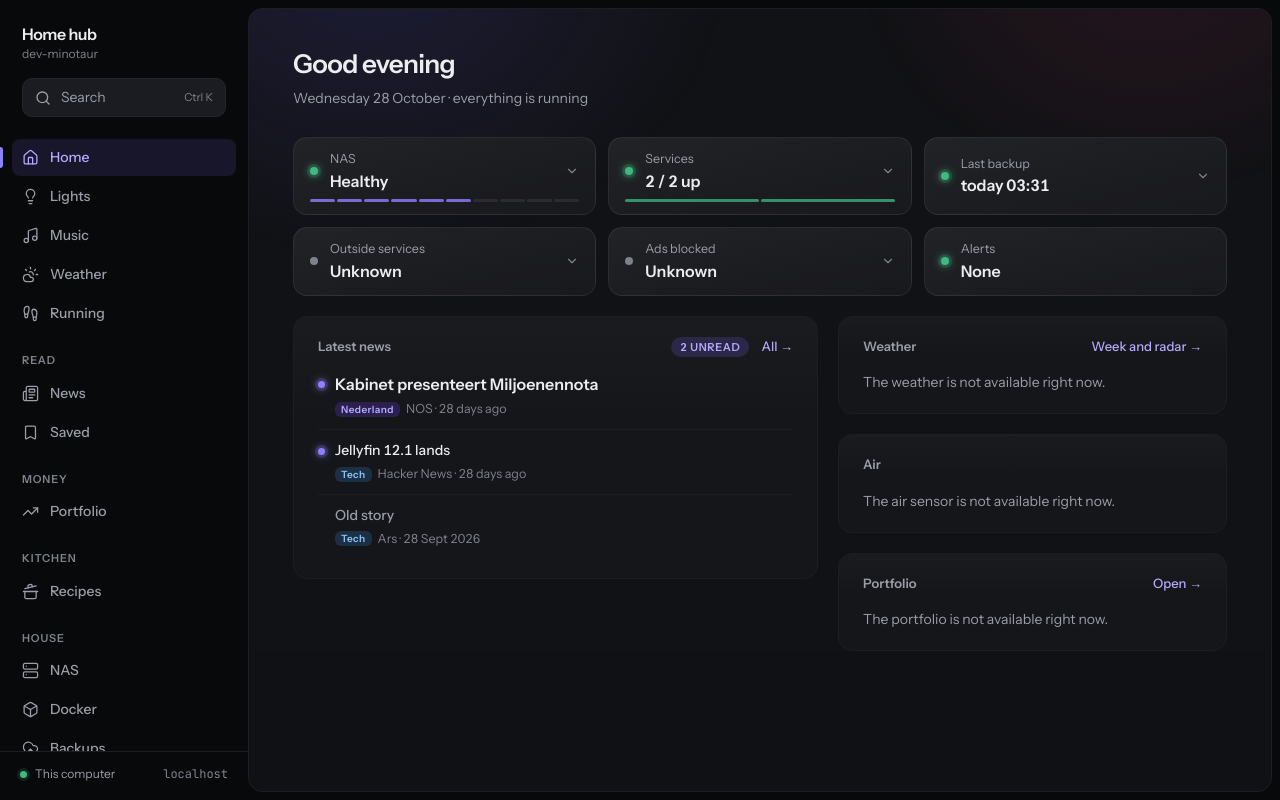
HomePage › keeps the other cards when one source is down
Check: the text "The portfolio is not available right now." is shown, box [863,610,1108,628]
Step 1. Click the button with aria-label "NAS:" → x=359, y=181, box [293,137,596,215]
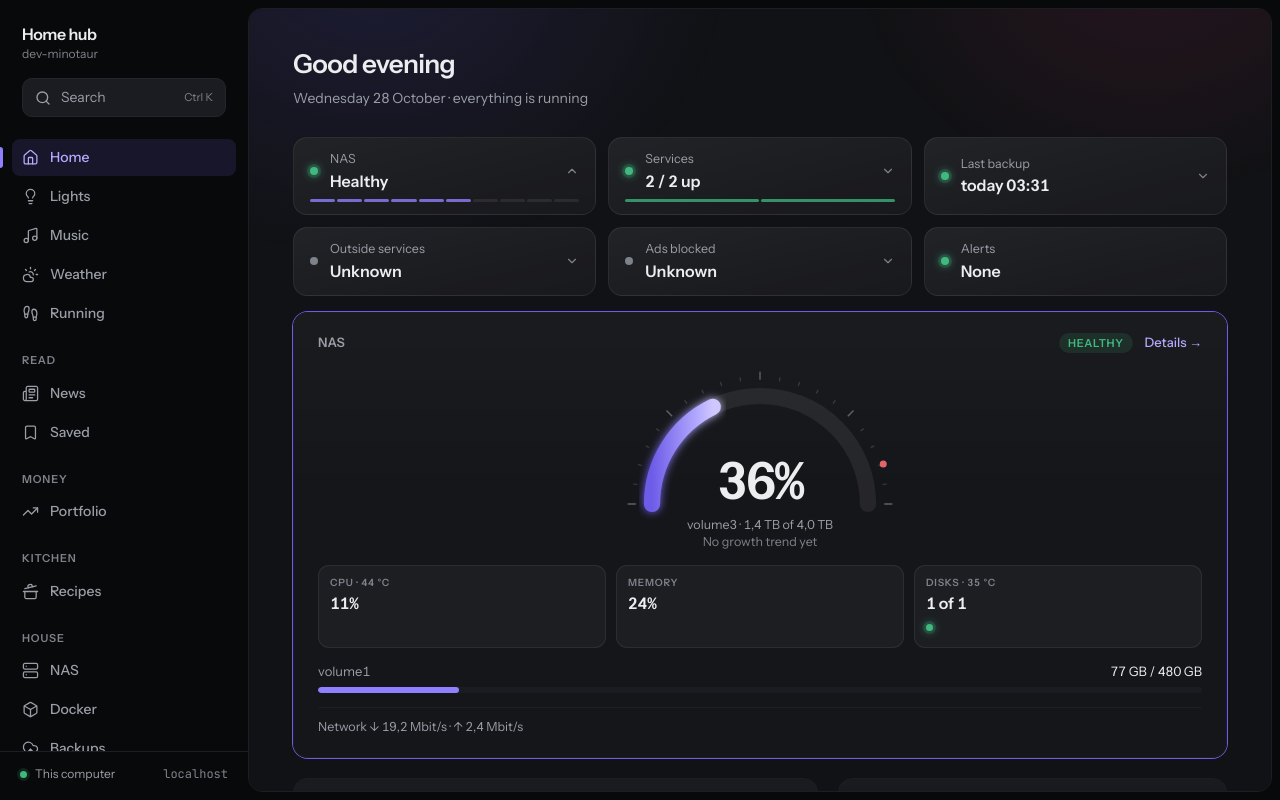
Check: the icon named "volume3" is shown, box [625,369,895,520]
